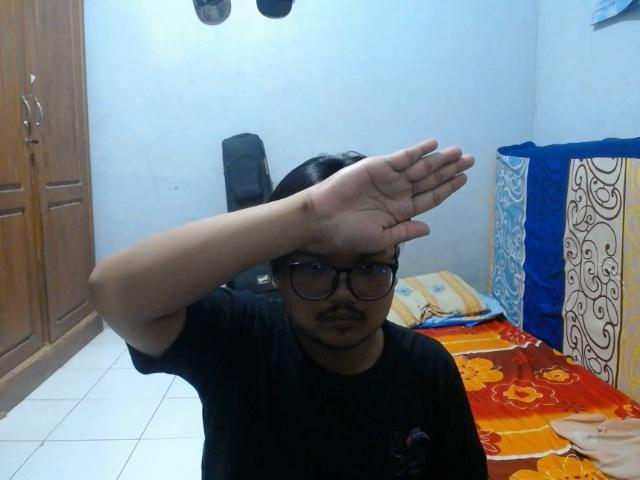Release: (296, 132, 481, 262)
